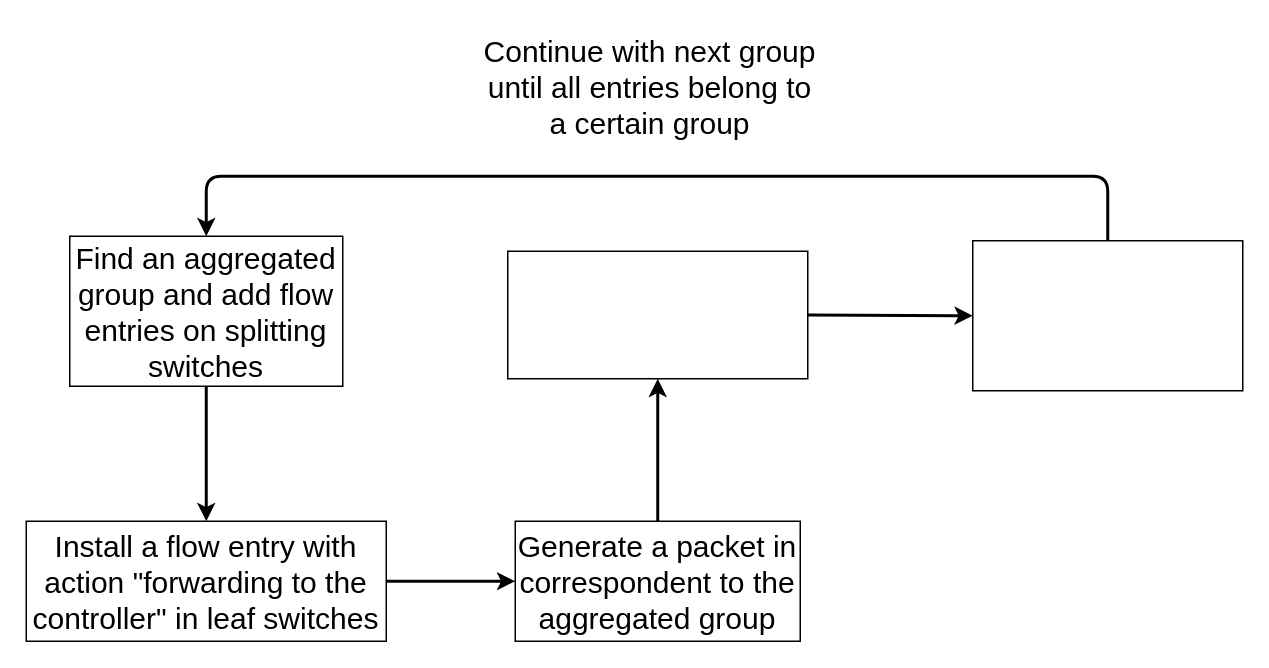
This 1269x668 diagram has some shape labels left out. The centre of each missing label's shape, as x and y in pixels:
"Check if the packets come back from Packet_In as expected" belongs at pixel 1107 315.
"Send the packet to the starting switch of the aggregated group" belongs at pixel 657 314.
